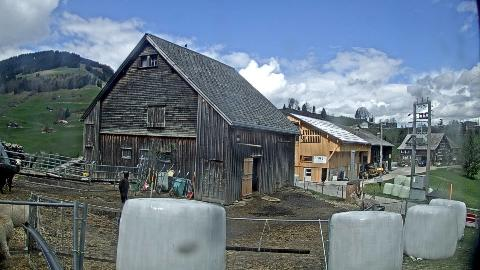car: (418, 161, 426, 167)
sheep: (0, 200, 42, 248), (0, 213, 18, 265), (0, 158, 21, 196), (350, 191, 380, 211), (117, 171, 132, 202), (23, 155, 40, 169)
